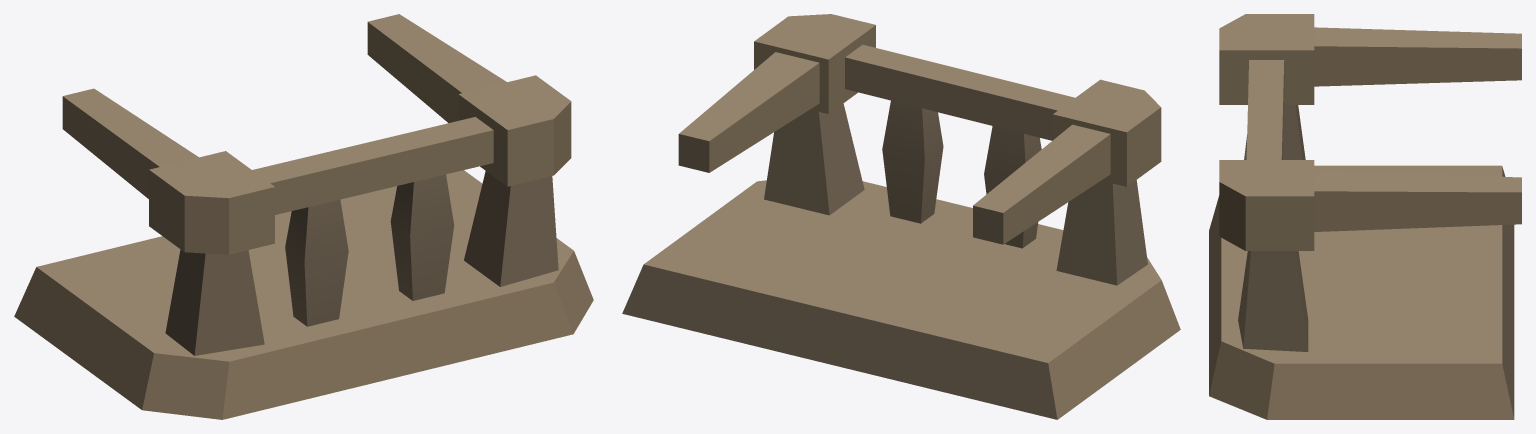
File: Balcony_B2.fbx
The picture shows the model from 3 angles, left to right: view 1: azimuth 30°, elevation 25°; view 2: azimuth 150°, elevation 25°; view 3: azimuth 270°, elevation 25°; orthographic projection. The views are drawn at different scales.
Visible parts, largest first — view 1: Balcony_B2; view 2: Balcony_B2; view 3: Balcony_B2.
Boxes of the visible parts, bbox=[...] form: Balcony_B2: bbox=[14, 14, 593, 419]; Balcony_B2: bbox=[622, 14, 1180, 419]; Balcony_B2: bbox=[1209, 14, 1521, 419].
Bounding box in the file's own units: 293 × 133 × 182.
